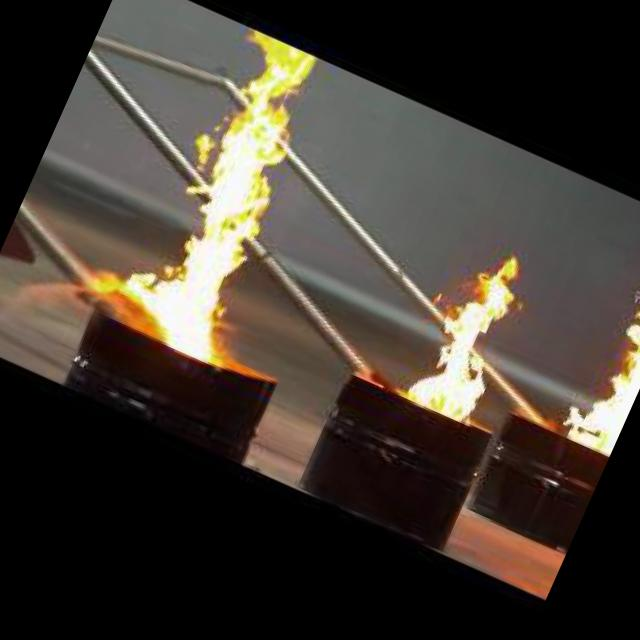fire: (94, 22, 342, 361), (393, 236, 541, 432), (549, 212, 640, 459)
